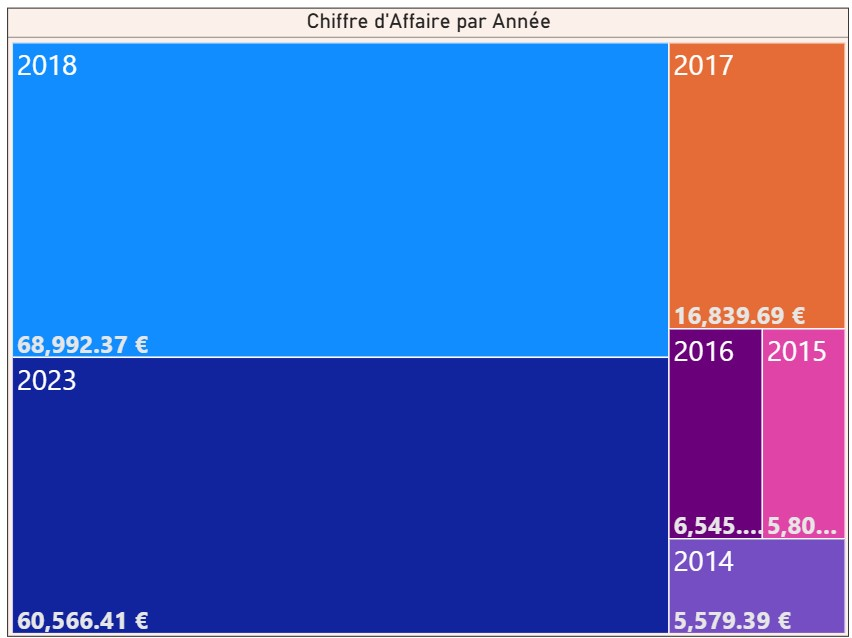

The page's visual inventory and layout, read from the dashboard file:
{"tool":"powerbi","page":{"name":"Map CA par An","canvas":[1280,720],"ordinal":4},"visuals":[{"type":"treemap","title":"Chiffre d''Affaire par Année","fields":{"Group":["Calendrier.Annee"],"Values":["Sum(2014-2018.Montant Total EUR)"]},"box":[94.3,20,924.3,690],"z":0}]}

Visuals, with their boxes on the page's 1280x720 design canvas (x1, y1, x2, y2). These are canvas units, not pixel positions in the 852x638 screenshot, which may show the page scaled, cropped or inside an application window:
"Chiffre d''Affaire par Année" treemap: x1=94 y1=20 x2=1019 y2=710
